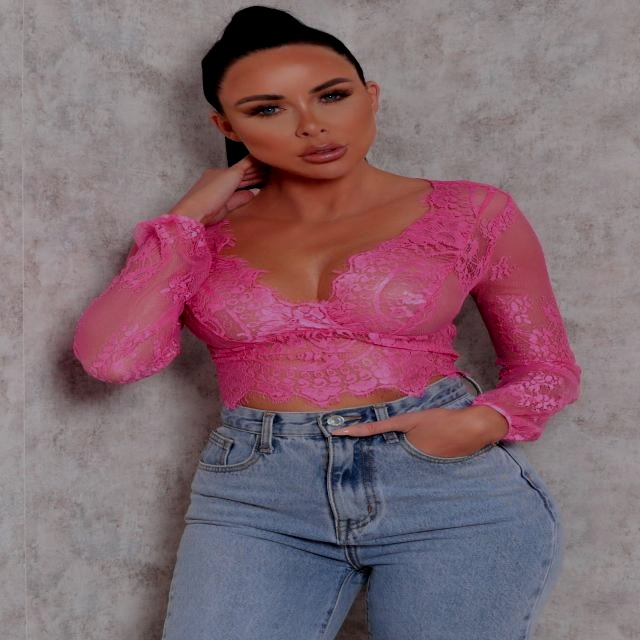Crop_Top: (185, 305, 466, 415)
low_neckline: (184, 180, 462, 375)
